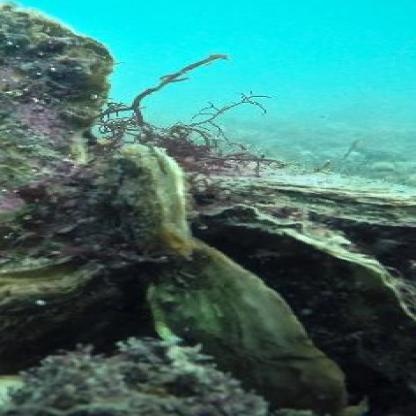Oyster- Indeterminate: (0, 252, 124, 369), (199, 166, 416, 226), (113, 143, 191, 258)
Oyster-Closed: (0, 3, 167, 269)
Oyster-Open: (145, 203, 416, 414)
